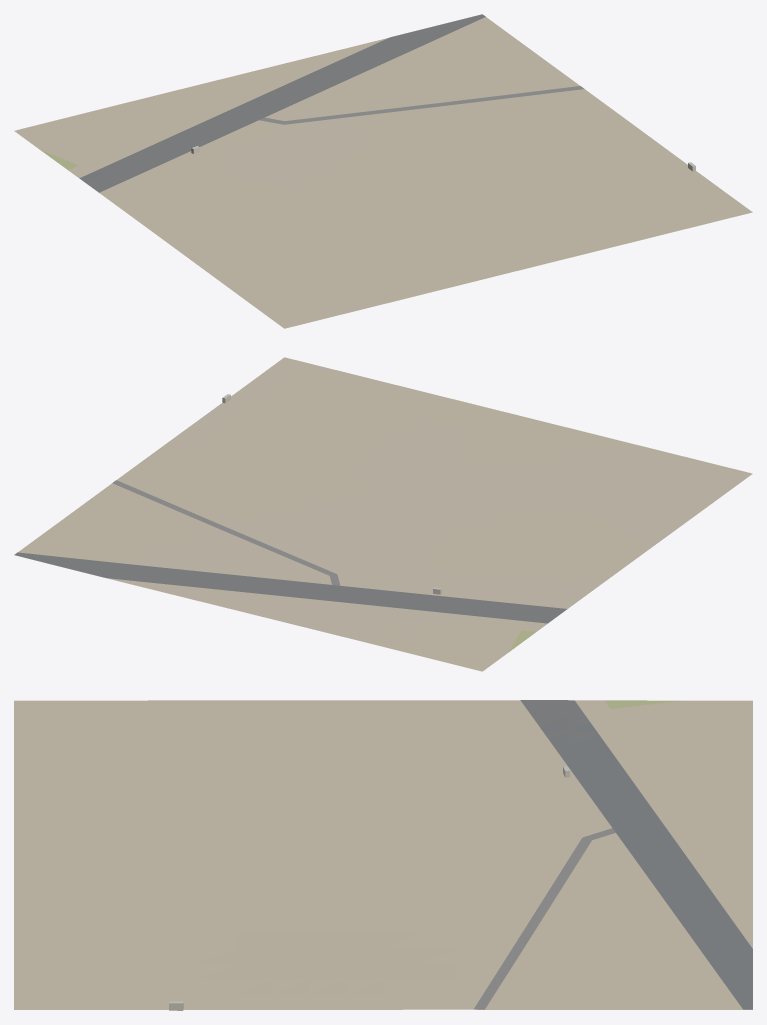
The model's file is bolak_-4_-15.glb.
3 renders of one model, top to bottom at view 1: azimuth 30°, elevation 25°; view 2: azimuth 150°, elevation 25°; view 3: azimuth 270°, elevation 25°, orthographic. The views are drawn at different scales.
Visible parts, largest first — view 1: Yer_Tuproq-col, Yol_Asfalt-col, Yol_Mahalla-col; view 2: Yer_Tuproq-col, Yol_Asfalt-col, Yol_Mahalla-col; view 3: Yer_Tuproq-col, Yol_Asfalt-col, Yol_Mahalla-col.
Boxes of the visible parts, left/top/right/bottom form: Yer_Tuproq-col: left=14, top=17, right=752, bottom=328; Yol_Asfalt-col: left=79, top=14, right=485, bottom=192; Yol_Mahalla-col: left=259, top=86, right=584, bottom=124; Yer_Tuproq-col: left=14, top=357, right=752, bottom=671; Yol_Asfalt-col: left=14, top=552, right=566, bottom=623; Yol_Mahalla-col: left=112, top=480, right=340, bottom=585; Yer_Tuproq-col: left=14, top=700, right=752, bottom=1009; Yol_Asfalt-col: left=520, top=700, right=752, bottom=1009; Yol_Mahalla-col: left=473, top=828, right=615, bottom=1009.
Size of what is drawn, in the model's own units: 400 by 5.71 by 400.
